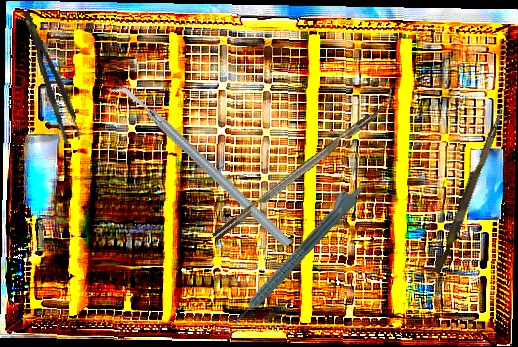Chopper: (107, 46, 293, 286), (204, 86, 402, 241)
Handpiece: (224, 179, 366, 328)
Pusher: (433, 106, 505, 276)
Tissue Forceps: (21, 6, 83, 145)
